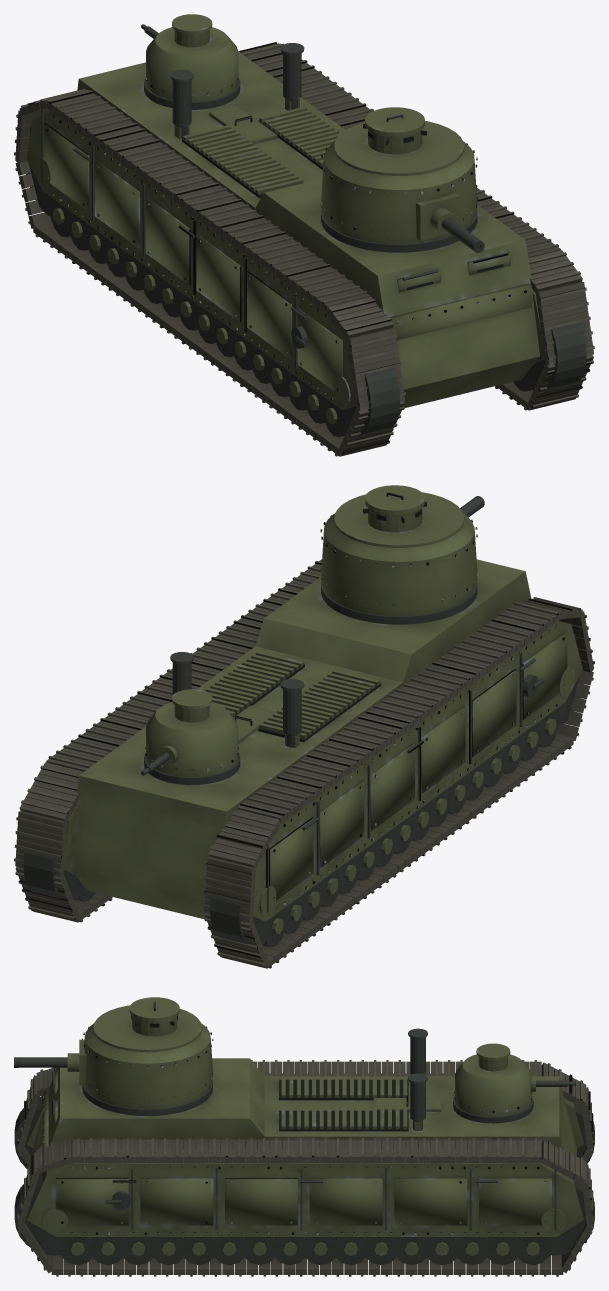
3 views of the same model, one above another, from view 1: azimuth 30°, elevation 25°; view 2: azimuth 150°, elevation 25°; view 3: azimuth 270°, elevation 25° (orthographic). The views are drawn at different scales.
Parts seen in each view (by area): view 1: Hull, Track_belt_R, Track_frame_R, Main_turret, Running_gear_R, Track_belt_L, Rear_MG_turret, Running_gear_L, Main_gun, Cupola_lid, Engine_hatch, Exhaust_R (+1 smaller); view 2: Hull, Track_belt_R, Track_frame_R, Main_turret, Track_belt_L, Running_gear_R, Rear_MG_turret, Running_gear_L, Cupola_lid, Exhaust_R, Engine_hatch, Exhaust_L; view 3: Track_frame_L, Hull, Track_belt_L, Running_gear_L, Main_turret, Track_belt_R, Rear_MG_turret, Main_gun, Cupola_lid, Running_gear_R, Exhaust_L, Exhaust_R (+2 smaller).
Part boxes in pixels (<box>): Hull: <box>77,51,539,407</box>; Track_belt_R: <box>14,88,405,456</box>; Track_frame_R: <box>26,109,355,410</box>; Main_turret: <box>320,121,477,252</box>; Running_gear_R: <box>26,127,400,437</box>; Track_belt_L: <box>238,42,594,410</box>; Rear_MG_turret: <box>141,14,240,109</box>; Running_gear_L: <box>514,322,586,391</box>; Main_gun: <box>415,193,484,252</box>; Cupola_lid: <box>365,107,424,136</box>; Engine_hatch: <box>209,105,277,144</box>; Exhaust_R: <box>170,69,193,138</box>; Hull: <box>69,559,531,918</box>; Track_belt_R: <box>203,597,594,968</box>; Track_frame_R: <box>253,621,582,921</box>; Main_turret: <box>320,492,477,624</box>; Track_belt_L: <box>14,559,321,922</box>; Running_gear_R: <box>210,633,583,947</box>; Rear_MG_turret: <box>141,689,240,784</box>; Running_gear_L: <box>23,842,95,901</box>; Cupola_lid: <box>365,485,424,514</box>; Exhaust_R: <box>280,679,304,747</box>; Engine_hatch: <box>233,705,277,743</box>; Exhaust_L: <box>170,652,193,694</box>; Track_frame_L: <box>27,1149,583,1236</box>; Hull: <box>34,1058,576,1156</box>; Track_belt_L: <box>17,1138,594,1276</box>; Running_gear_L: <box>14,1173,594,1265</box>; Main_turret: <box>82,1005,213,1115</box>; Track_belt_R: <box>17,1060,594,1166</box>; Rear_MG_turret: <box>453,1043,575,1123</box>; Main_gun: <box>14,1039,86,1085</box>; Cupola_lid: <box>129,997,179,1021</box>; Running_gear_R: <box>14,1096,594,1168</box>; Exhaust_L: <box>408,1073,427,1129</box>; Exhaust_R: <box>408,1028,427,1074</box>.
Bounding box in the file's own units: 3.98 × 4.24 × 9.95.
1 material, 1 textured.
